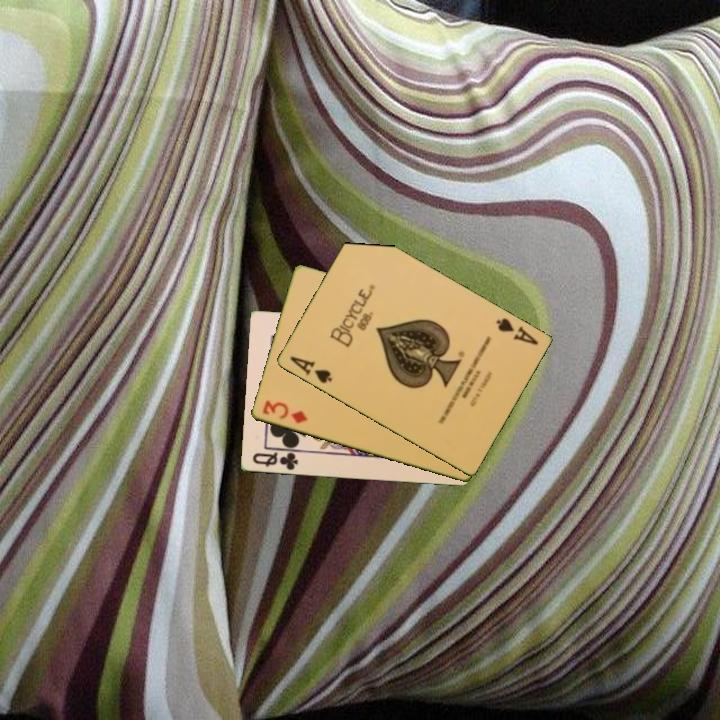3d: (259, 397, 310, 427)
As: (286, 353, 335, 387), (492, 314, 541, 348)
Qc: (249, 446, 303, 473)
